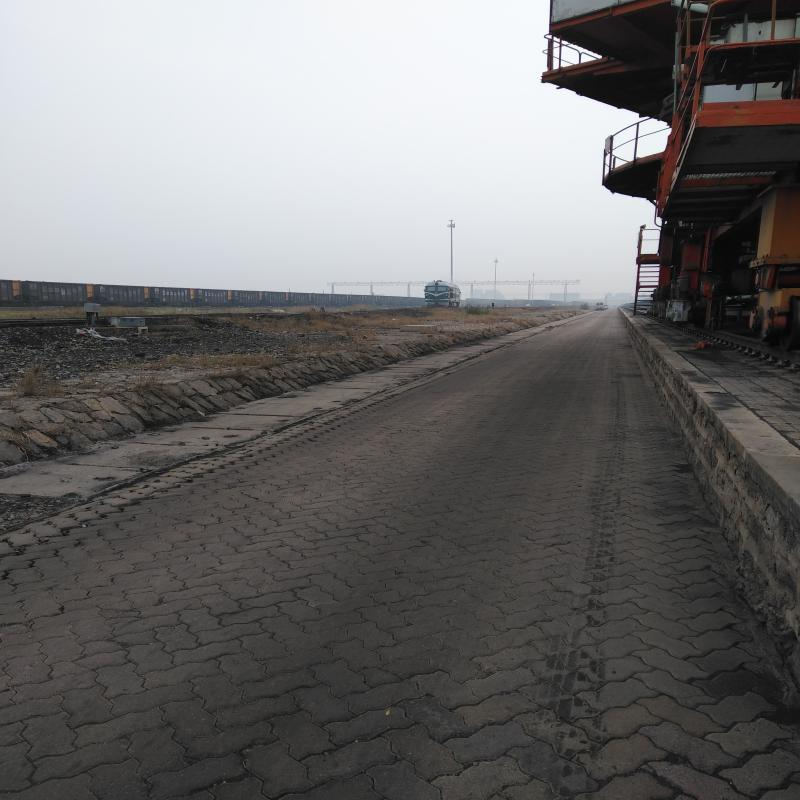train: (419, 280, 468, 313)
